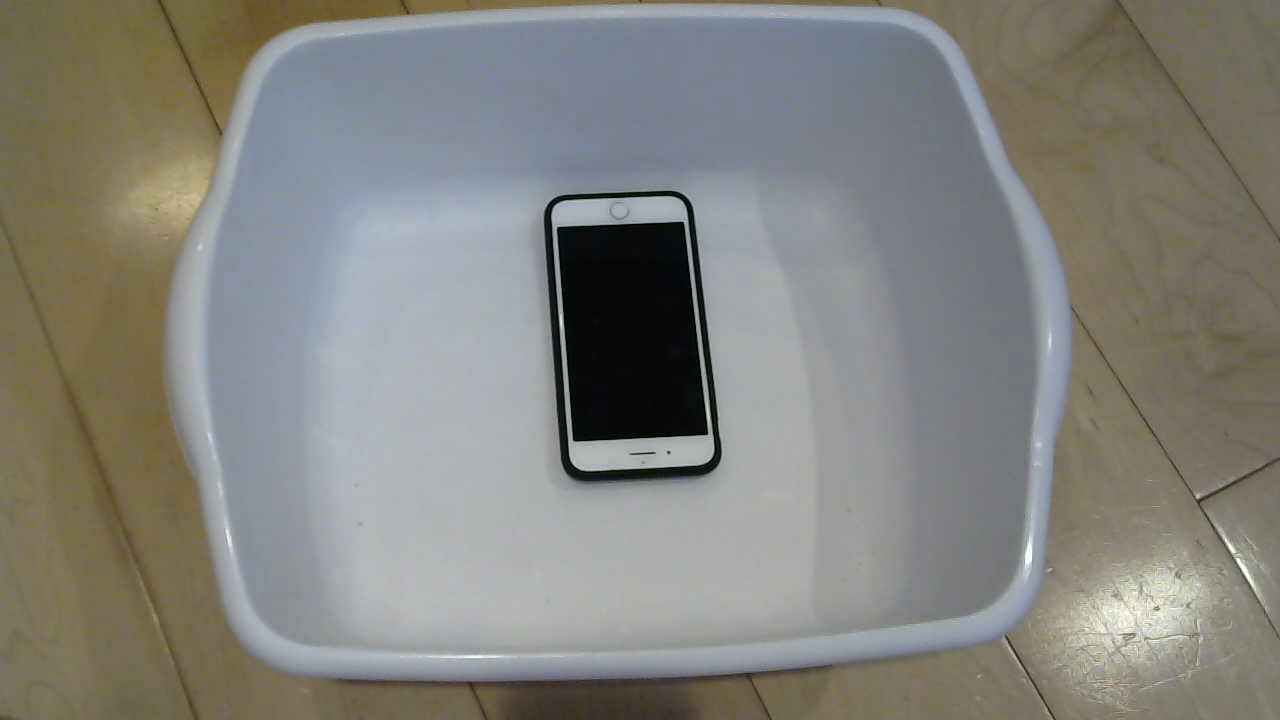phone: (530, 189, 729, 507)
